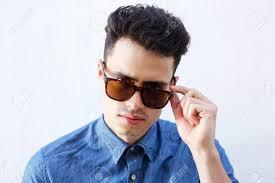sunglasses: (101, 74, 177, 110)
